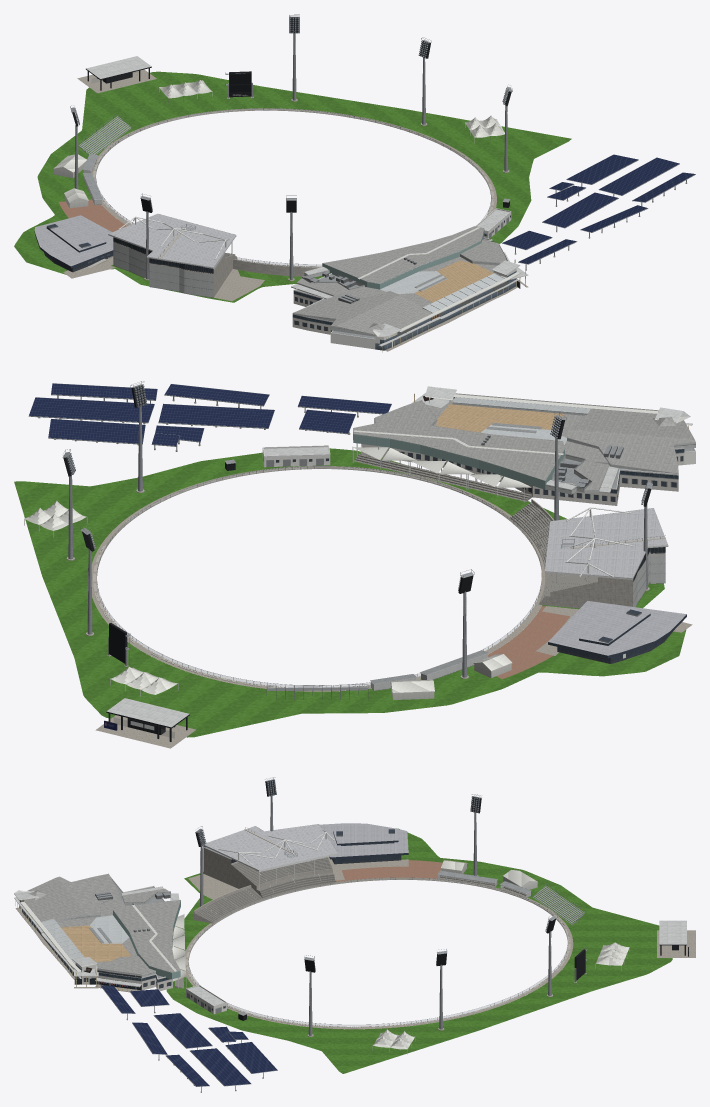
Rendered from cazalys.glb.
3 renders of one model, top to bottom at view 1: azimuth 30°, elevation 25°; view 2: azimuth 150°, elevation 25°; view 3: azimuth 270°, elevation 25°, orthographic. The views are drawn at different scales.
Visible parts, largest first — view 1: extras, ground, roofs, stands, towers, fence, fascia_smooth; view 2: extras, ground, roofs, stands, towers, fence, fascia_smooth, seat_posts; view 3: extras, ground, stands, roofs, towers, fence, fascia_smooth, seat_posts.
Boxes of the visible parts, box(x1,y1,x2,y2) form: extras: box(34, 56, 695, 352); ground: box(14, 71, 571, 302); roofs: box(108, 213, 236, 291); stands: box(113, 243, 319, 297); towers: box(70, 14, 512, 280); fence: box(96, 108, 491, 266); fascia_smooth: box(34, 227, 113, 272); extras: box(24, 383, 695, 748); ground: box(14, 448, 692, 737); roofs: box(545, 507, 668, 584); stands: box(510, 499, 650, 608); towers: box(62, 381, 652, 678); fence: box(97, 466, 541, 687); fascia_smooth: box(548, 613, 686, 663); seat_posts: box(95, 454, 589, 687); extras: box(14, 823, 695, 1092); ground: box(166, 828, 672, 1073); stands: box(193, 847, 335, 923); roofs: box(203, 824, 337, 889); towers: box(195, 777, 557, 1036); fence: box(188, 877, 567, 1026); fascia_smooth: box(329, 831, 408, 864); seat_posts: box(186, 857, 569, 1027).
Size of the model in its own units: 288 by 40.77 by 307.
58 materials, 58 textured.
